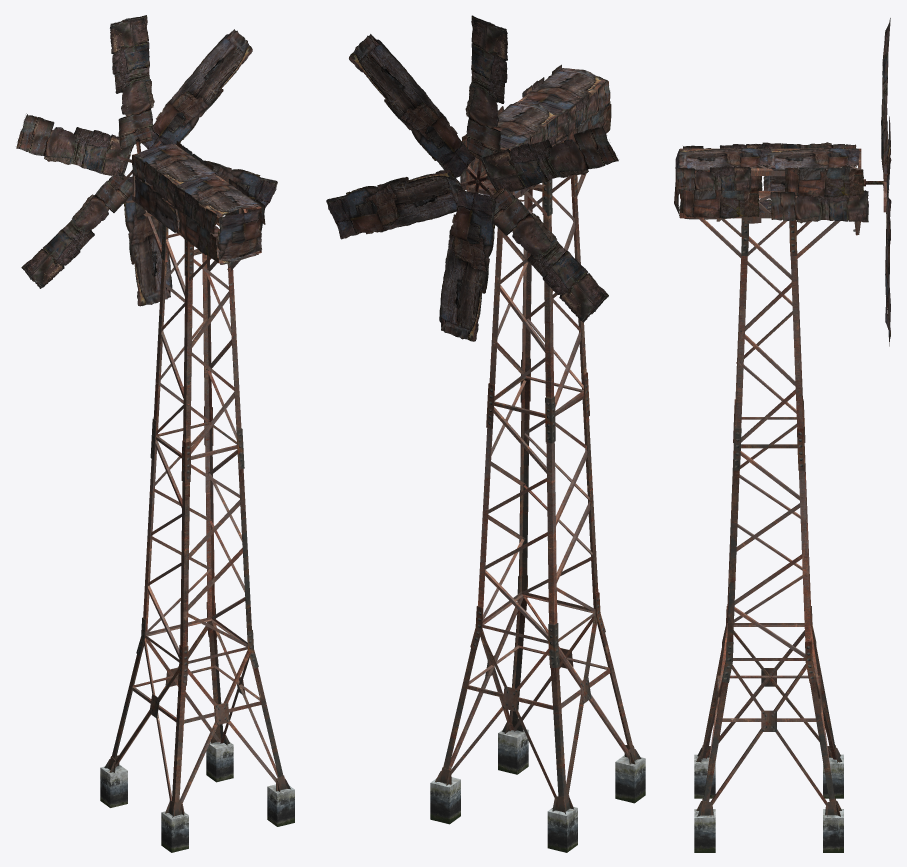
The model's file is Vetryak.FBX.
3 renders of one model, left to right at view 1: azimuth 30°, elevation 25°; view 2: azimuth 150°, elevation 25°; view 3: azimuth 270°, elevation 25°, orthographic. The views are drawn at different scales.
Parts seen in each view (by area): view 1: oporaLEP, Vint, Metal_Fence_03, Metal_Fence_02; view 2: oporaLEP, Vint, Metal_Fence_03, Metal_Fence_02; view 3: oporaLEP, Metal_Fence_03, Vint, Metal_Fence_02.
Boxes of the visible parts, <box> form: oporaLEP: <box>100,144,294,852</box>; Vint: <box>16,15,277,306</box>; Metal_Fence_03: <box>134,141,265,264</box>; Metal_Fence_02: <box>132,155,217,261</box>; oporaLEP: <box>430,80,645,852</box>; Vint: <box>326,15,618,341</box>; Metal_Fence_03: <box>460,64,610,197</box>; Metal_Fence_02: <box>520,80,611,194</box>; oporaLEP: <box>680,148,861,852</box>; Metal_Fence_03: <box>674,148,868,223</box>; Vint: <box>863,18,891,346</box>; Metal_Fence_02: <box>680,142,856,190</box>.
Bounding box in the file's own units: 8.42 × 22.71 × 5.68.
